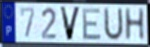2: (40, 7, 58, 41)
7: (19, 6, 36, 40)
E: (82, 7, 103, 41)
H: (123, 7, 146, 43)
U: (103, 6, 124, 42)
V: (58, 6, 82, 42)
